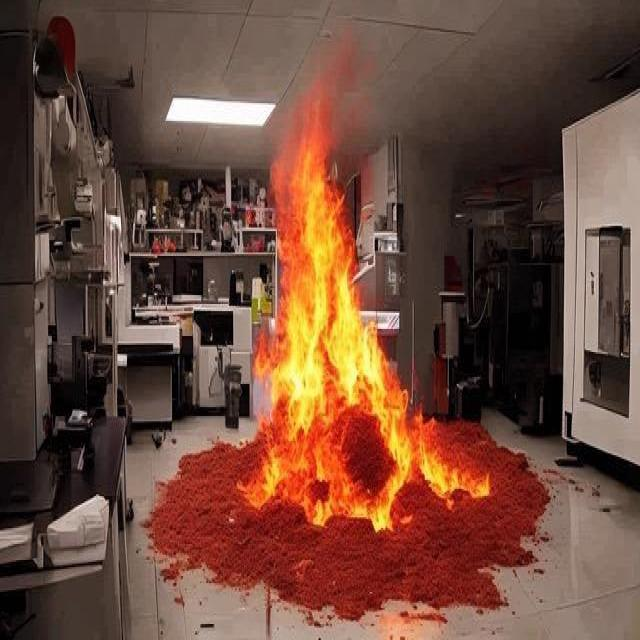smoke: (247, 109, 492, 538)
